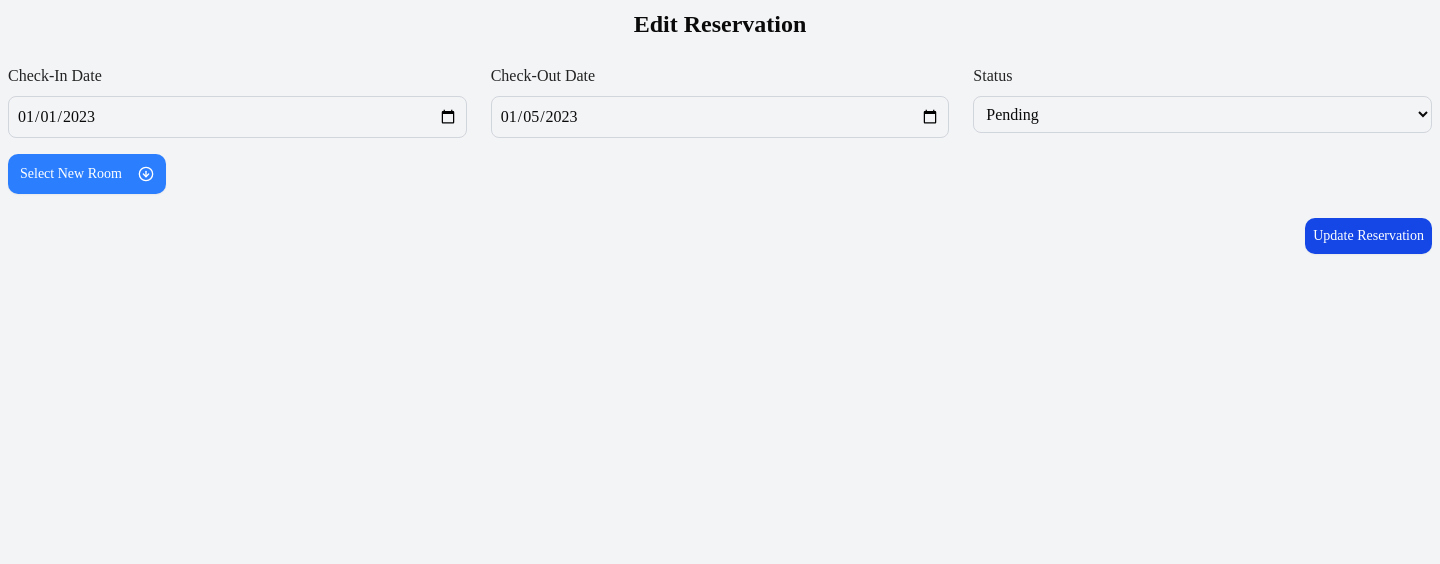
EditBooking › fetches and displays available rooms
Click the button with test id "room-selection-button" at coordinates (87, 174), box [8,154,166,194]
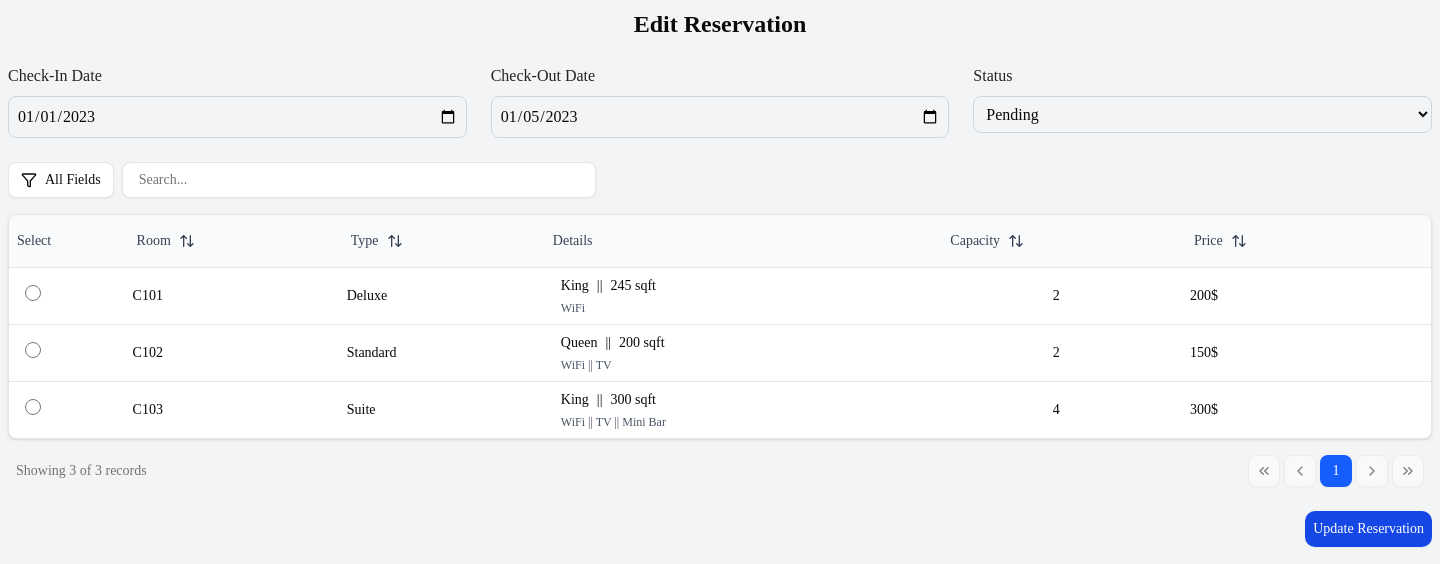
Expected: the text "Deluxe" is shown, [347,288,387,303]
Expected: the text "C101" is shown, [132,288,163,303]
Expected: the text "Standard" is shown, [347,345,396,360]
